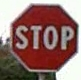stop: (8, 2, 78, 71)
